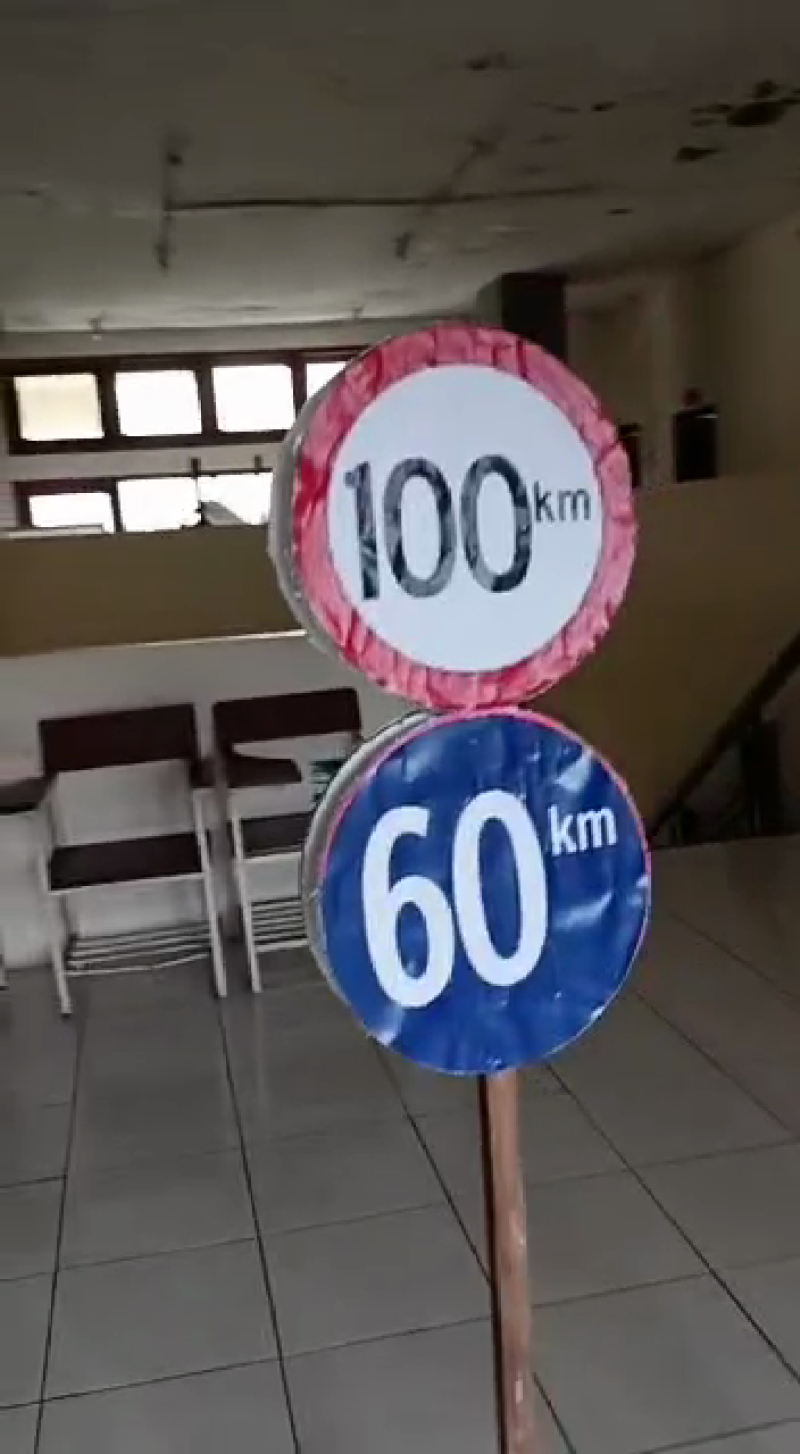batas maksimal 100kmperjam minimal 60kmperjam: (279, 305, 665, 1098)
